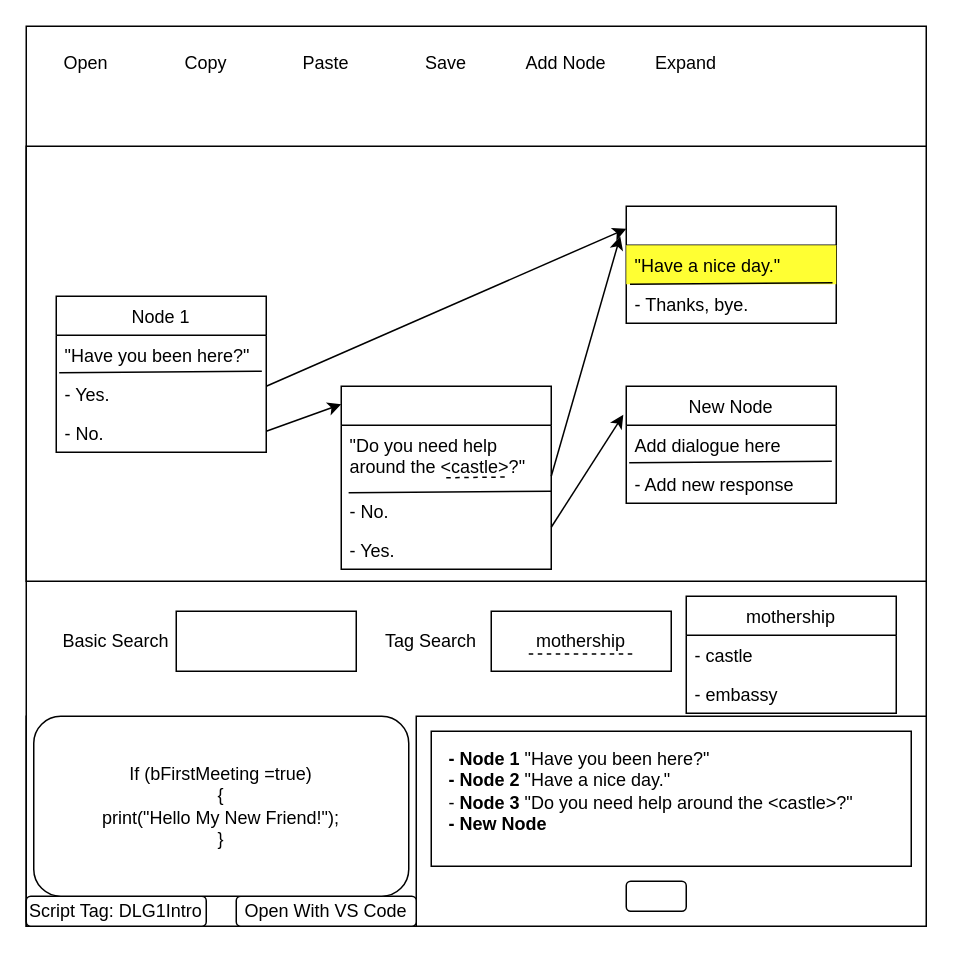
Image size: 953x953. Some labels were removed from this diagram. Here are the shapes that lost their labels. From the top down, the box of each, then its label:
(625, 205, 836, 323): Node 2
(340, 385, 551, 569): Node 3
(175, 610, 356, 671): day
(625, 880, 686, 911): Edit
